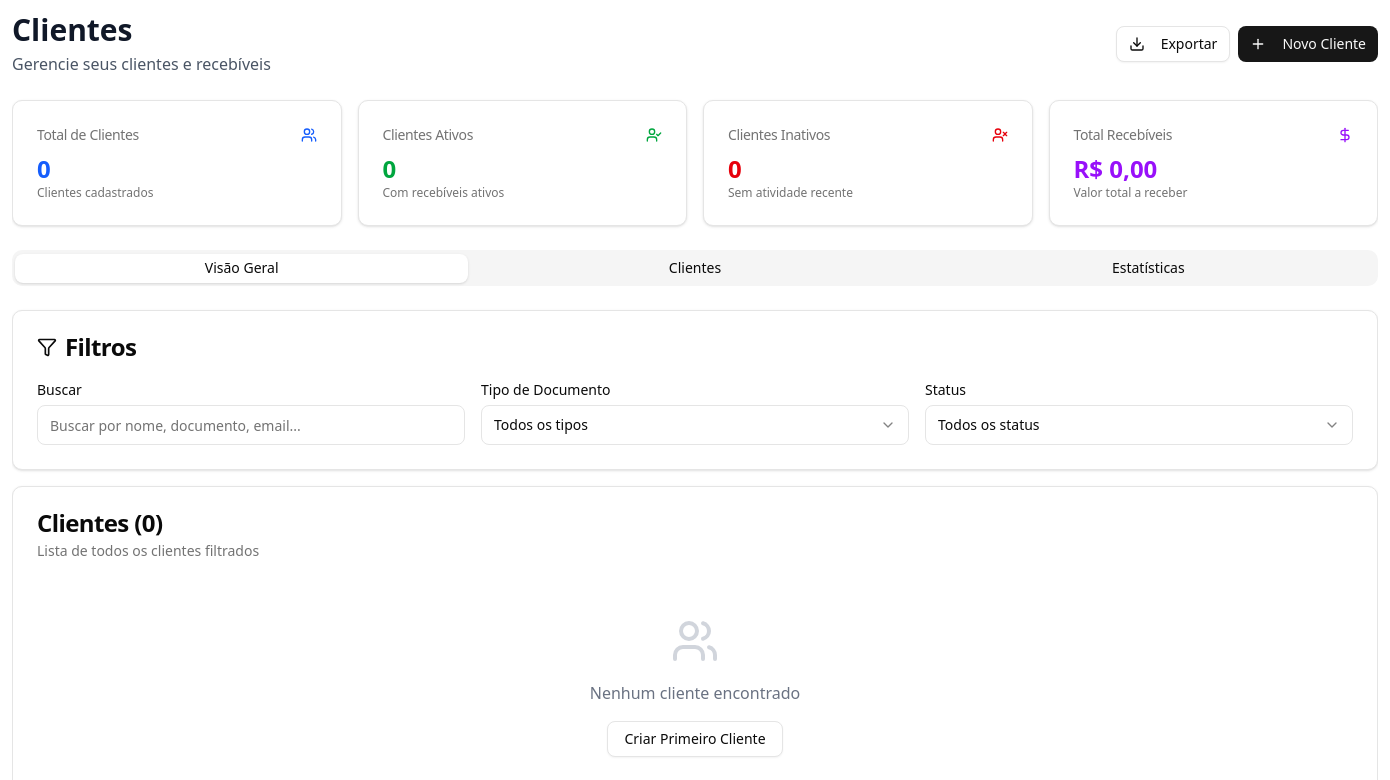
Test case: Customers Page › Funcionalidades de Cliente › deve permitir filtrar por tipo de documento
The image size is (1390, 780).
Click the dropdown "Todos os tipos". click: point(541, 424)
box: [481,405,909,445]
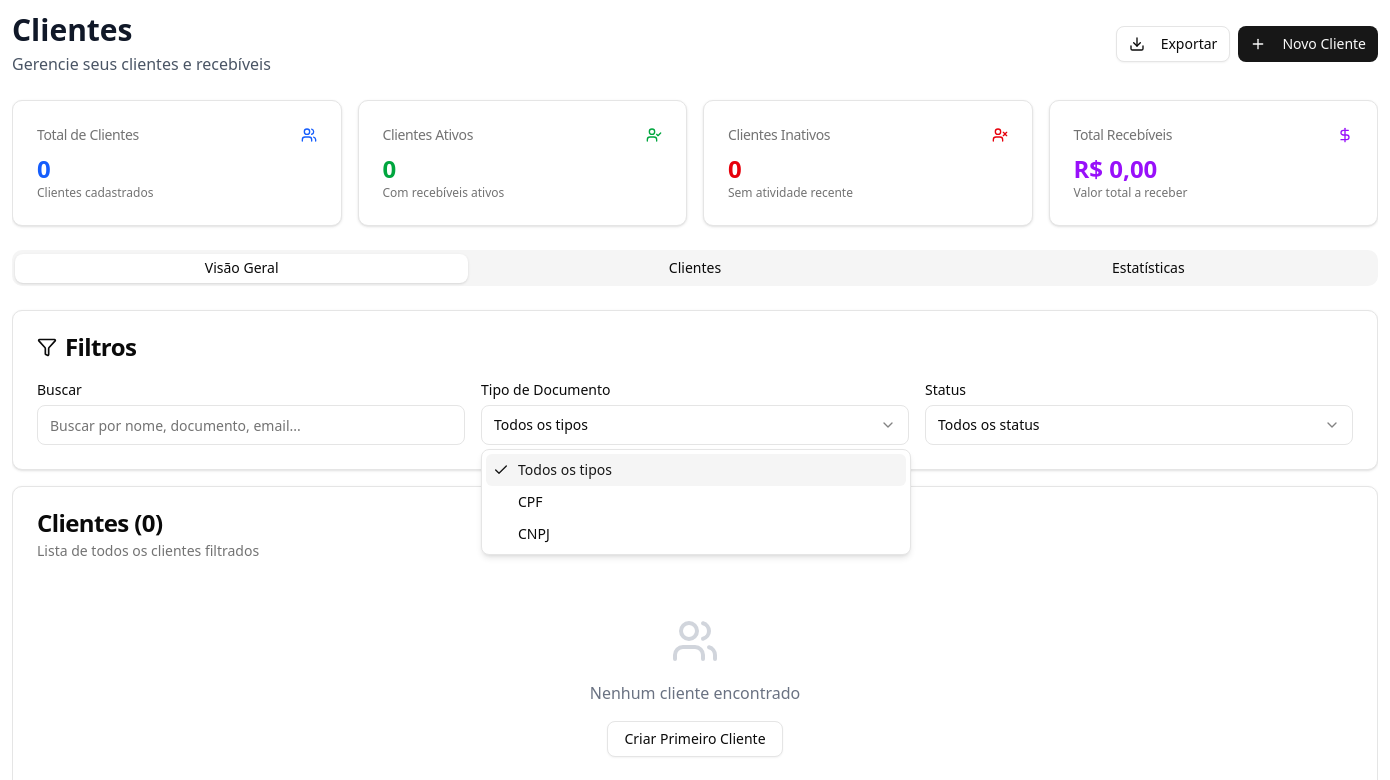
Now the text "CPF" is shown, box [518,492,543,512]
Now the text "CNPJ" is shown, box [518,524,550,544]
